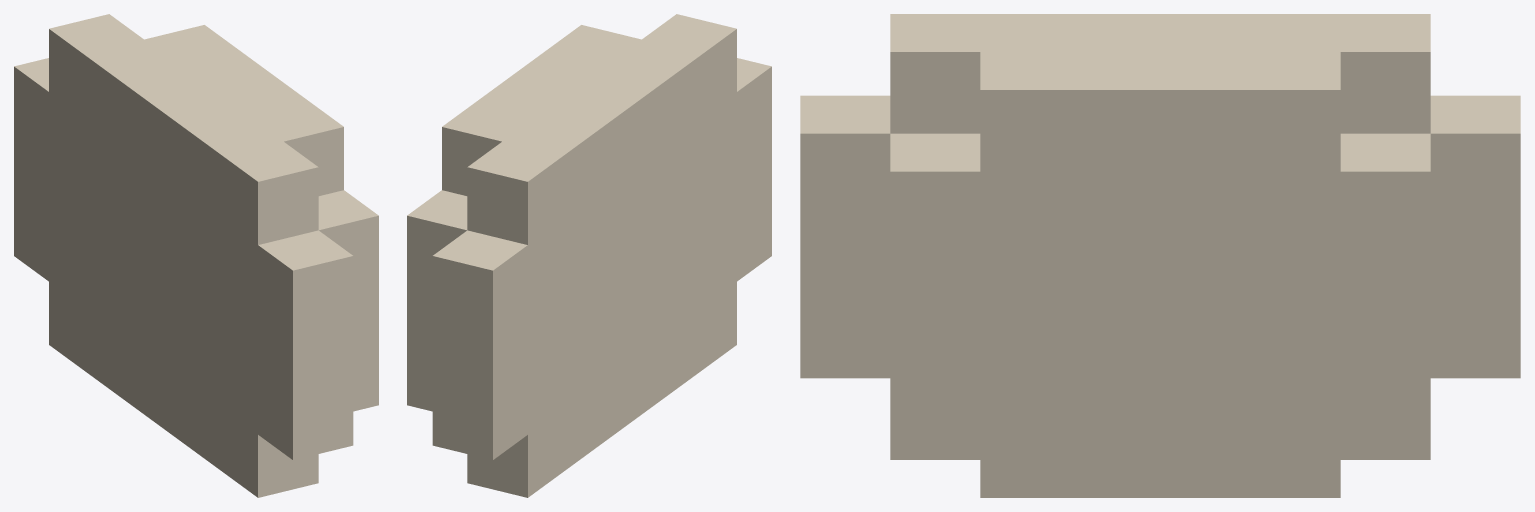
Rendered from chicken__wing_r.glb.
The picture shows the model from 3 angles, left to right: view 1: azimuth 30°, elevation 25°; view 2: azimuth 150°, elevation 25°; view 3: azimuth 270°, elevation 25°; orthographic projection. The views are drawn at different scales.
Parts seen in each view (by area): view 1: chicken__wing_r; view 2: chicken__wing_r; view 3: chicken__wing_r.
Part boxes in pixels (left/top/right/bottom): chicken__wing_r: left=14, top=14, right=378, bottom=497; chicken__wing_r: left=407, top=14, right=771, bottom=497; chicken__wing_r: left=800, top=14, right=1520, bottom=497.
Bounding box in the file's own units: 0.2 × 0.5 × 0.8.
1 material, 1 textured.
